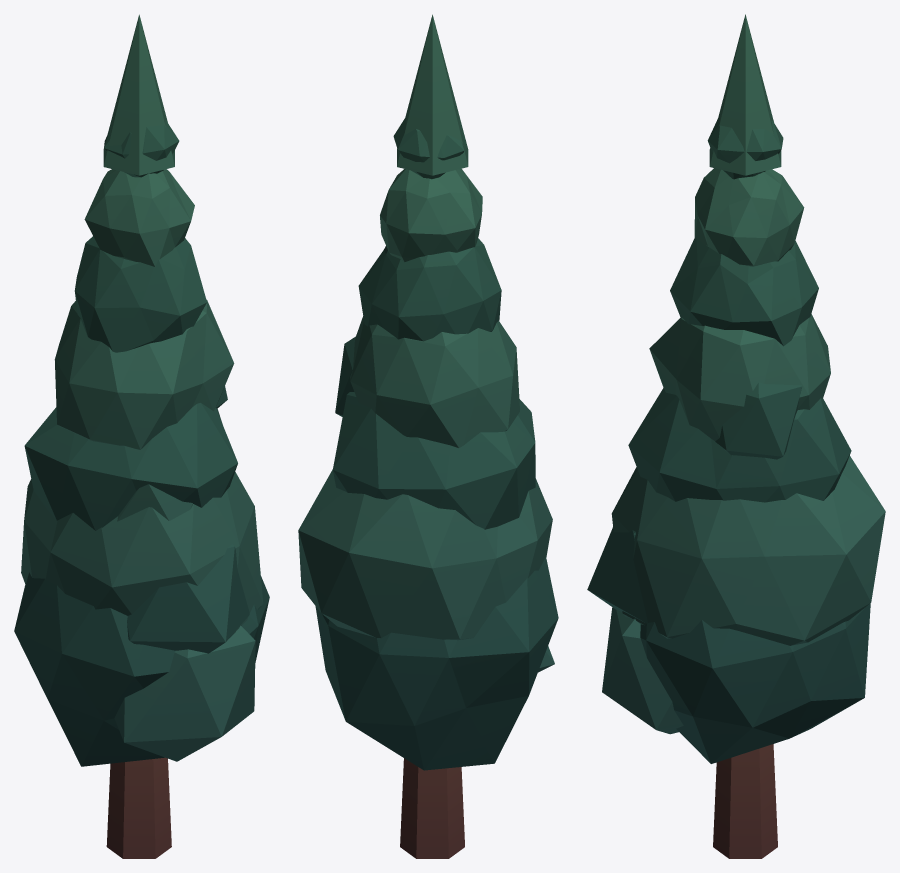
File: cedar_a.glb
The picture shows the model from 3 angles, left to right: view 1: azimuth 30°, elevation 25°; view 2: azimuth 150°, elevation 25°; view 3: azimuth 270°, elevation 25°; orthographic projection.
Visible parts, largest first — view 1: cedar_a; view 2: cedar_a; view 3: cedar_a.
Boxes of the visible parts, box(x1,y1,x2,y2) form: cedar_a: box(14, 14, 269, 858); cedar_a: box(298, 14, 558, 858); cedar_a: box(587, 14, 885, 858).
Size of the model in its own units: 3.59 by 12.7 by 4.12.
